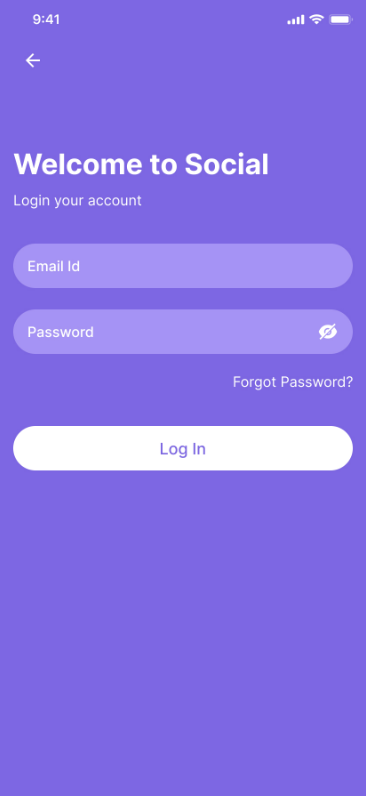Input: (11, 239, 355, 291), (12, 306, 354, 356)
